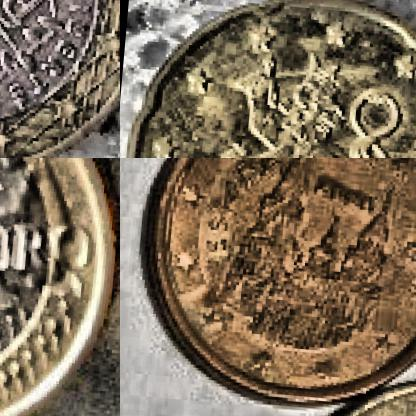coin: (125, 158, 415, 415), (120, 0, 415, 157), (0, 158, 119, 415), (0, 0, 119, 157)
